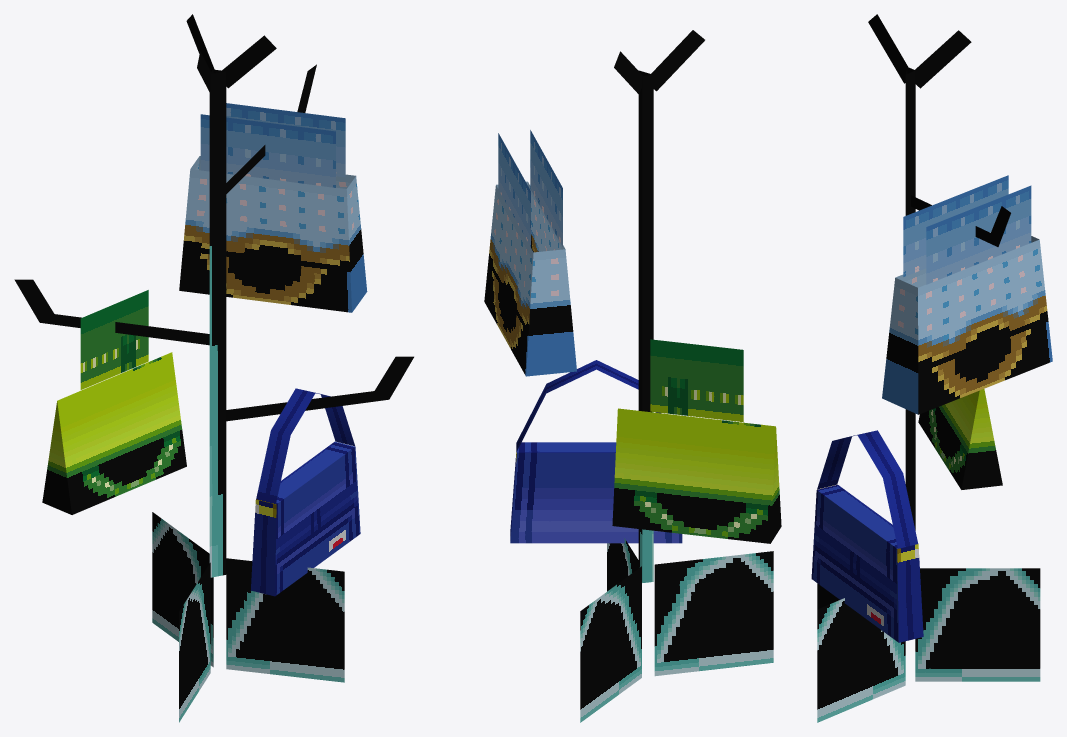
The picture shows the model from 3 angles, left to right: view 1: azimuth 30°, elevation 25°; view 2: azimuth 150°, elevation 25°; view 3: azimuth 270°, elevation 25°; orthographic projection. The views are drawn at different scales.
Parts seen in each view (by area): view 1: 3890kg3_shp12; view 2: 3890kg3_shp12; view 3: 3890kg3_shp12.
Boxes of the visible parts, box(x1,y1,x2,y2) form: 3890kg3_shp12: box(14, 14, 413, 722); 3890kg3_shp12: box(484, 30, 781, 722); 3890kg3_shp12: box(811, 14, 1052, 722).
Bounding box in the file's own units: 0.9873 × 1.96 × 0.6624.
Materials: 4 (4 with a texture image).
